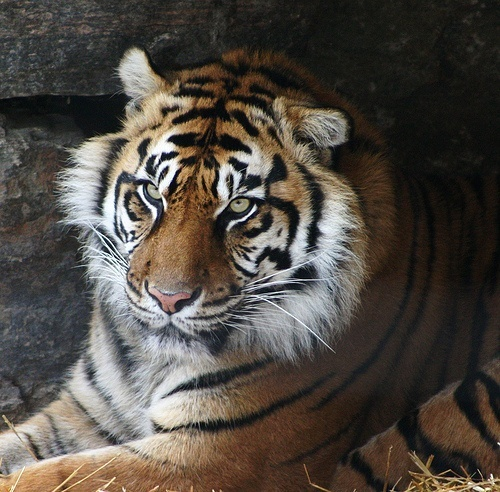tigre: (1, 34, 500, 481)
